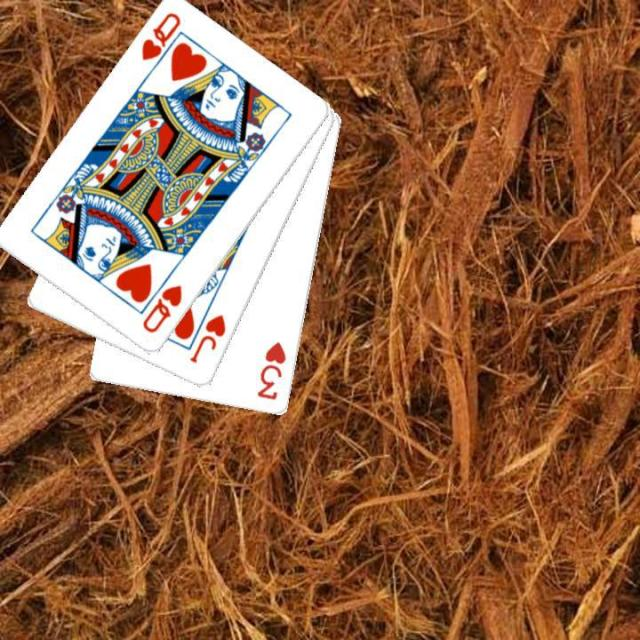3H: (253, 338, 288, 402)
JH: (186, 311, 228, 365)
QH: (137, 9, 186, 77), (139, 282, 185, 336)
